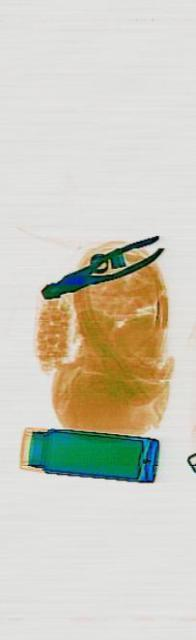Pliers: (38, 225, 162, 312)
